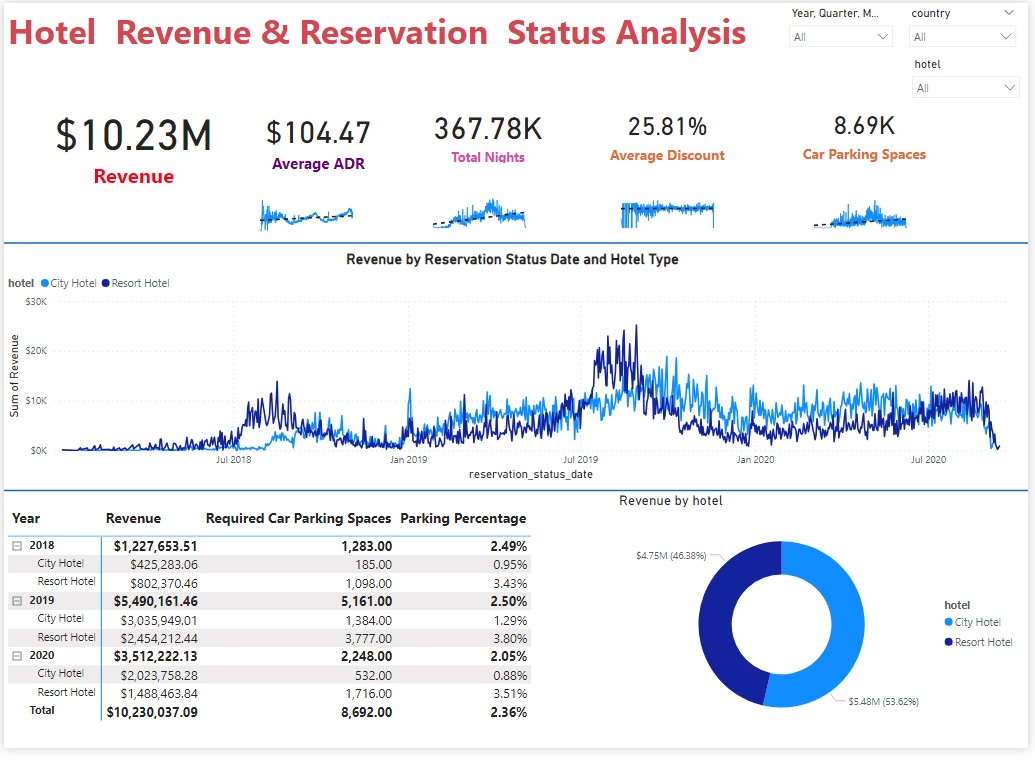

The dashboard page shown, as its layout file describes it:
{"tool":"powerbi","page":{"name":"Page 1","canvas":[1500,900],"ordinal":0},"visuals":[{"type":"shape","box":[0,272.2,1500,12.2],"z":0},{"type":"shape","box":[0,577.8,1500,13.3],"z":1000},{"type":"card","fields":{"Values":["Sum(Query1.Revenue)"]},"box":[30,78.9,251.1,113.3],"z":2000},{"type":"card","fields":{"Values":["Avg(Query1.adr)"]},"box":[293.3,75.6,208.9,100],"z":3000},{"type":"card","fields":{"Values":["Query1.Total Nights"]},"box":[513.3,82.2,207.8,87.8],"z":4000},{"type":"card","fields":{"Values":["Avg(Query1.Discount)"]},"box":[745.6,84.4,185.6,91.1],"z":5000},{"type":"lineChart","title":"Revenue by Reservation Status Date and Hotel Type","fields":{"Category":["Query1.reservation_status_date"],"Y":["Sum(Query1.Revenue)"],"Series":["Query1.hotel"]},"box":[0,284.4,1491.1,293.3],"z":6000},{"type":"slicer","fields":{"Values":["Query1.country"]},"box":[1328.9,175.6,171.1,75.6],"z":7000},{"type":"slicer","fields":{"Values":["Query1.hotel"]},"box":[1328.9,88.9,171.1,75.6],"z":8000},{"type":"lineChart","fields":{"Category":["Query1.reservation_status_date"],"Y":["Avg(Query1.adr)"]},"box":[311.1,176.7,173.3,74.4],"z":9000},{"type":"lineChart","fields":{"Category":["Query1.reservation_status_date"],"Y":["Query1.Total Nights"]},"box":[513.3,167.8,183.3,81.1],"z":10000},{"type":"lineChart","fields":{"Category":["Query1.reservation_status_date"],"Y":["Avg(Query1.Discount)"]},"box":[750,164.4,170,81.1],"z":11000},{"type":"card","fields":{"Values":["Sum(Query1.required_car_parking_spaces)"]},"box":[950,82.2,197.8,94.4],"z":12000},{"type":"lineChart","fields":{"Category":["Query1.reservation_status_date"],"Y":["Sum(Query1.required_car_parking_spaces)"]},"box":[953.3,170,190,81.1],"z":13000},{"type":"donutChart","title":"Revenue by Hotel","fields":{"Category":["Query1.hotel"],"Y":["Sum(Query1.Revenue)"]},"box":[1124.4,601.1,366.7,298.9],"z":14000},{"type":"pivotTable","fields":{"Rows":["Query1.reservation_status_date.Variation.Date Hierarchy.Year","Query1.hotel"],"Values":["Sum(Query1.Revenue)","Sum(Query1.required_car_parking_spaces)","Query1.Parking Percentage"]},"box":[0,601.1,658.9,321.1],"z":15000},{"type":"slicer","fields":{"Values":["Query1.reservation_status_date.Variation.Date Hierarchy.Year","Query1.reservation_status_date.Variation.Date Hierarchy.Quarter","Query1.reservation_status_date.Variation.Date Hierarchy.Month","Query1.reservation_status_date.Variation.Date Hierarchy.Day"]},"box":[1328.9,2.2,171.1,76.7],"z":16000},{"type":"textbox","box":[0,0,814.4,84.4],"z":17000},{"type":"barChart","fields":{"Y":["Sum(Query1.Revenue)"],"Category":["Query1.country"]},"box":[658.9,601.1,465.6,290],"z":18000}]}

Visuals, with their boxes on the page's 1500x900 design canvas (x1, y1, x2, y2). These are canvas units, not pixel positions in the 1035x762 screenshot, which may show the page scaled, cropped or inside an application window:
shape: BBox(0, 272, 1500, 284)
shape: BBox(0, 578, 1500, 591)
card - Sum(Query1.Revenue): BBox(30, 79, 281, 192)
card - Avg(Query1.adr): BBox(293, 76, 502, 176)
card - Query1.Total Nights: BBox(513, 82, 721, 170)
card - Avg(Query1.Discount): BBox(746, 84, 931, 176)
"Revenue by Reservation Status Date and Hotel Type" lineChart: BBox(0, 284, 1491, 578)
slicer - Query1.country: BBox(1329, 176, 1500, 251)
slicer - Query1.hotel: BBox(1329, 89, 1500, 164)
lineChart - Query1.reservation_status_date x Avg(Query1.adr): BBox(311, 177, 484, 251)
lineChart - Query1.reservation_status_date x Query1.Total Nights: BBox(513, 168, 697, 249)
lineChart - Query1.reservation_status_date x Avg(Query1.Discount): BBox(750, 164, 920, 246)
card - Sum(Query1.required_car_parking_spaces): BBox(950, 82, 1148, 177)
lineChart - Query1.reservation_status_date x Sum(Query1.required_car_parking_spaces): BBox(953, 170, 1143, 251)
"Revenue by Hotel" donutChart: BBox(1124, 601, 1491, 900)
pivotTable - Query1.reservation_status_date.Variation.Date Hierarchy.Year x Query1.hotel: BBox(0, 601, 659, 922)
slicer - Query1.reservation_status_date.Variation.Date Hierarchy.Year x Query1.reservation_status_date.Variation.Date Hierarchy.Quarter: BBox(1329, 2, 1500, 79)
textbox: BBox(0, 0, 814, 84)
barChart - Sum(Query1.Revenue) x Query1.country: BBox(659, 601, 1124, 891)
